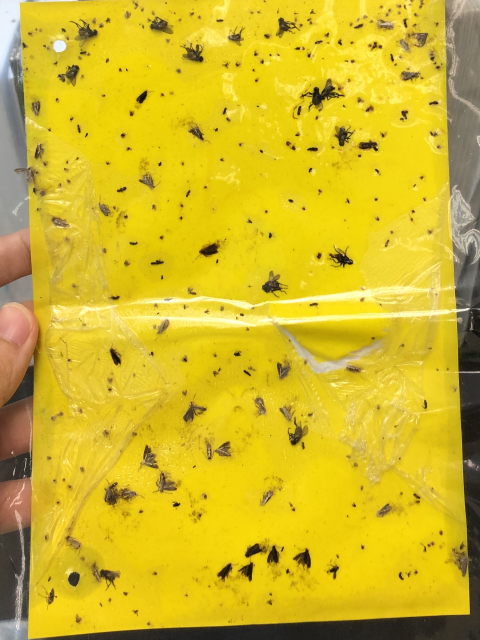DBM: (149, 467, 182, 496), (177, 399, 209, 425), (96, 478, 121, 511), (136, 444, 160, 471), (213, 559, 237, 585), (194, 239, 222, 260), (186, 123, 211, 146), (115, 485, 145, 503), (292, 546, 312, 572), (273, 358, 292, 384), (106, 341, 123, 369), (398, 65, 423, 84), (151, 315, 172, 337), (241, 540, 264, 560), (251, 395, 270, 419), (277, 403, 297, 425), (213, 438, 233, 460), (238, 561, 257, 584), (138, 171, 157, 191), (265, 544, 283, 565), (200, 440, 215, 465), (411, 29, 430, 48), (257, 489, 275, 508), (134, 88, 153, 106), (394, 35, 411, 55), (27, 98, 43, 119), (96, 198, 112, 219), (47, 214, 69, 229), (30, 140, 45, 160), (377, 16, 395, 31), (374, 501, 392, 516), (359, 140, 378, 152), (344, 364, 364, 375), (89, 568, 102, 584)
